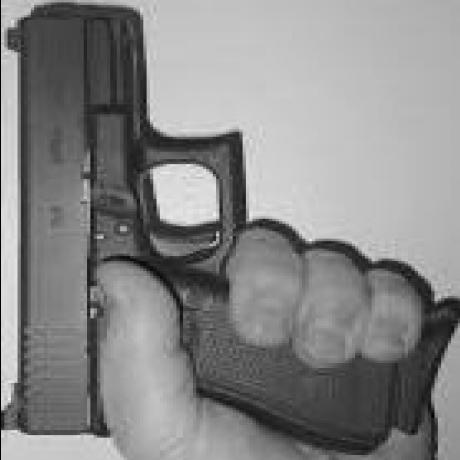weapon: (5, 7, 325, 444)
